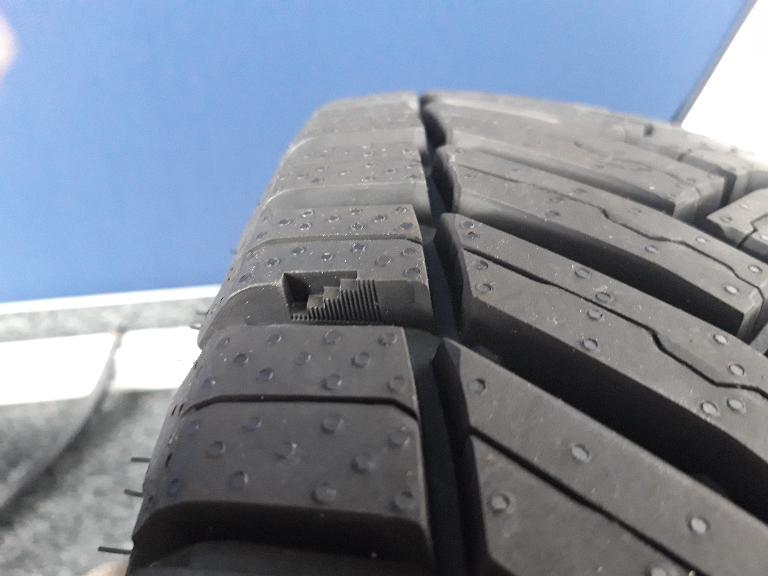temoin:100: (275, 266, 385, 326)
